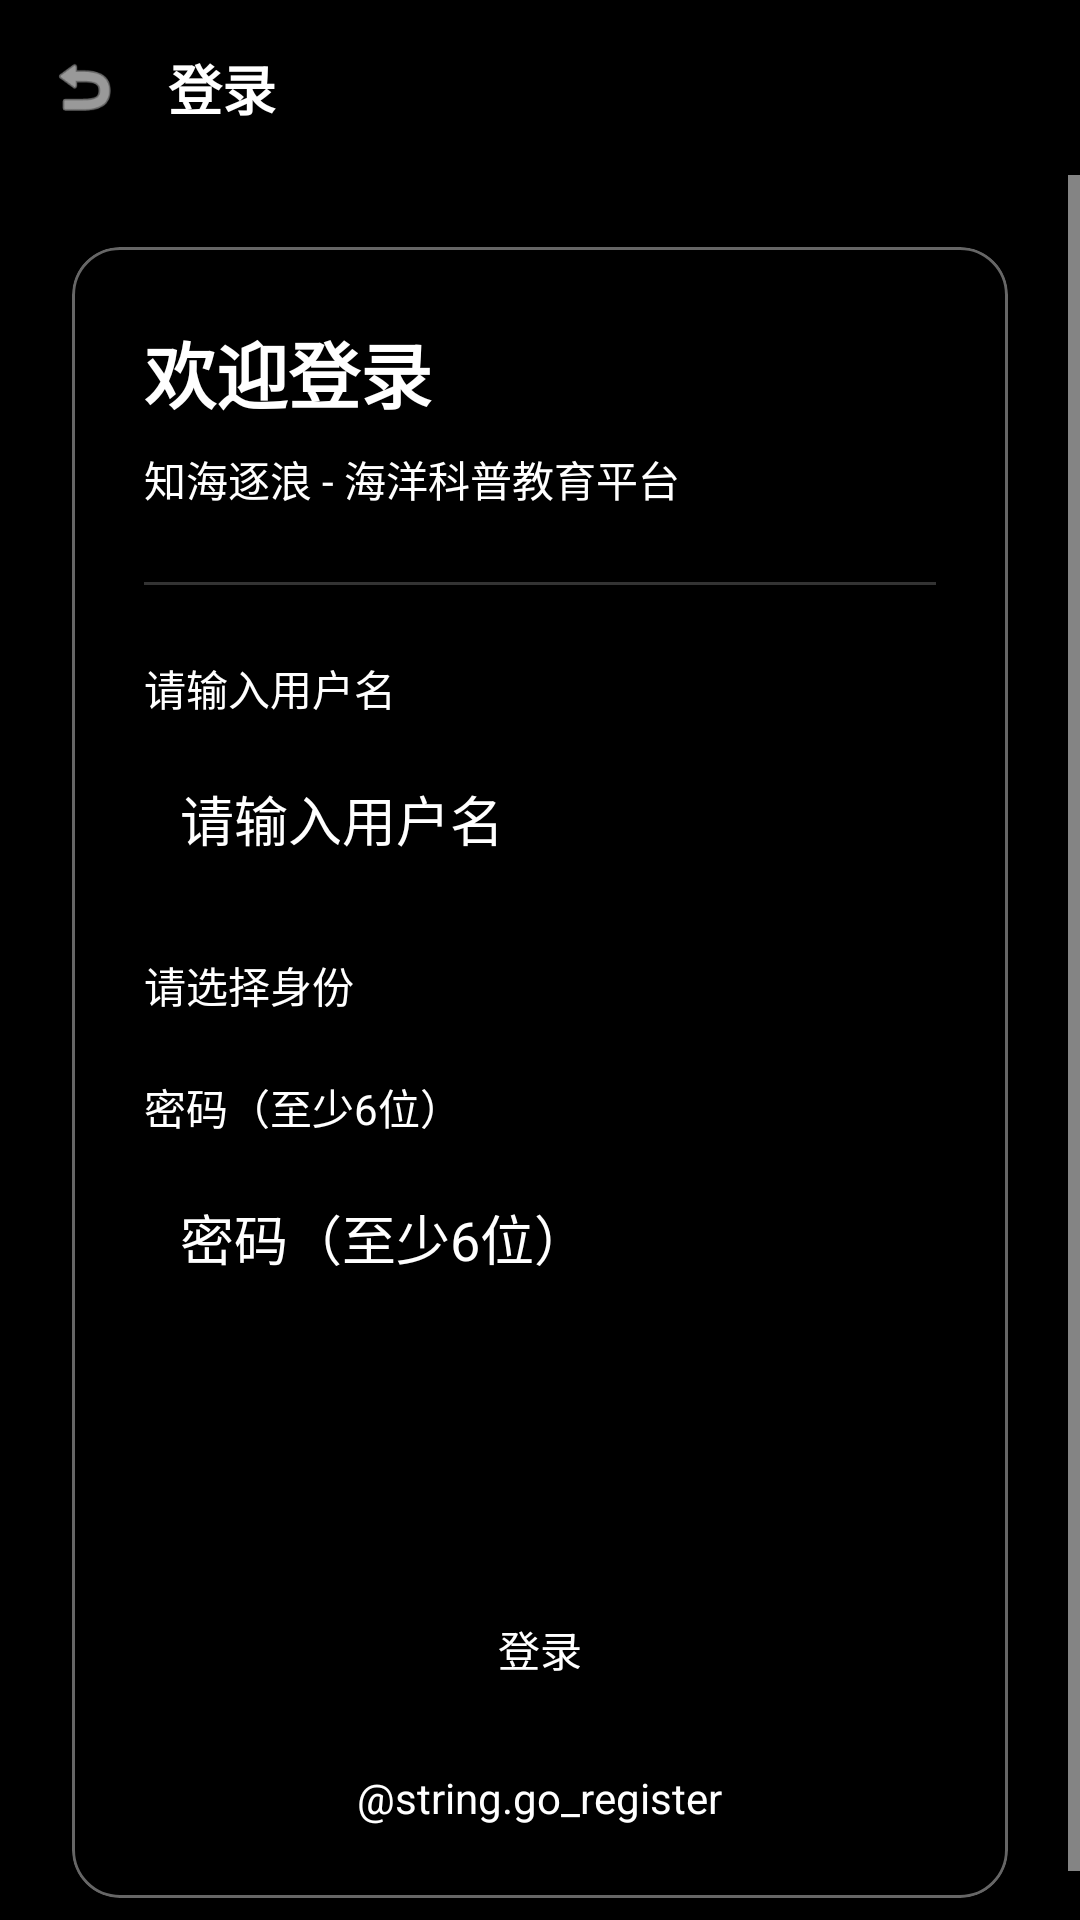

Where to tap for icons on this 1080*1920 app screen, as [x,y]:
revert: [85,87]
